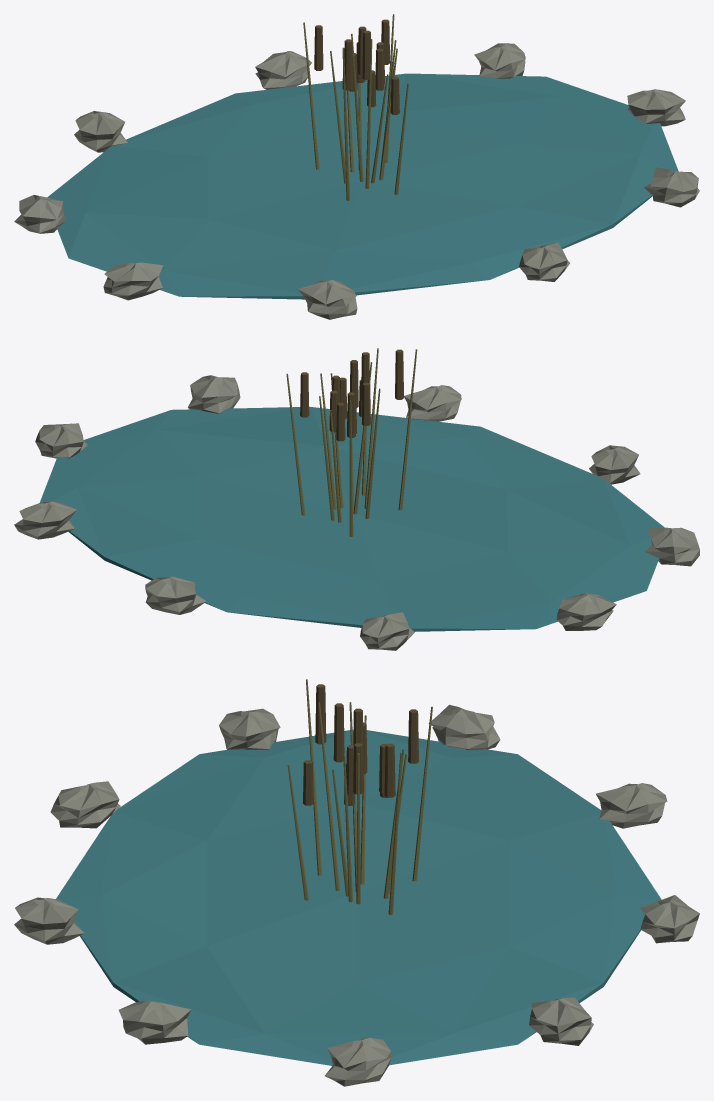
File: lake.glb
3 renders of one model, top to bottom at view 1: azimuth 30°, elevation 25°; view 2: azimuth 150°, elevation 25°; view 3: azimuth 270°, elevation 25°, orthographic. The views are drawn at different scales.
Visible parts, largest first — view 1: world-scenery/lake; view 2: world-scenery/lake; view 3: world-scenery/lake.
Part boxes in pixels (x1,y1,x2,y2): world-scenery/lake: (14, 14, 699, 319); world-scenery/lake: (14, 348, 699, 650); world-scenery/lake: (14, 679, 699, 1086).
Size of the model in its own units: 6.53 by 1.72 by 5.26.
